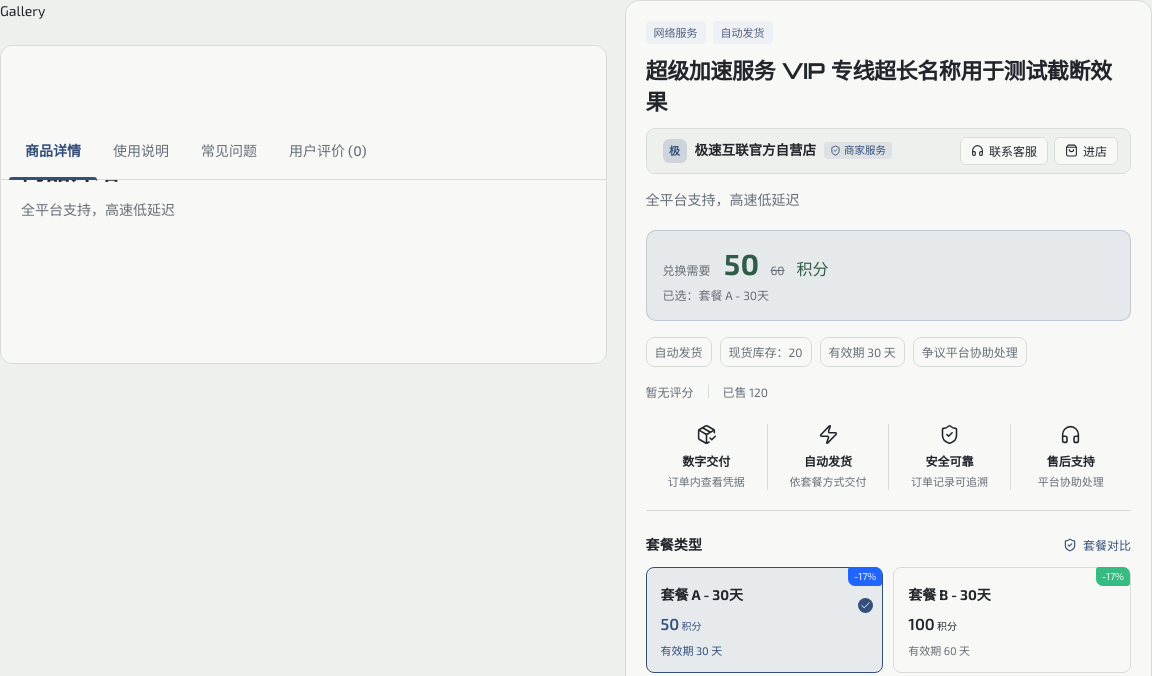
Test: ProductDetail - Merchant Byline and FAQ Pipeline Hub › renders fulfillment pipeline card, fallback FAQs and contact card when product has no custom FAQs
This screenshot has width=1152, height=676.
Switch to FAQ tab
What coordinates should you click on to do the following:
click the tab "常见问题"
I would click on:
 (229, 151)
Its box is [185, 123, 273, 179].
(page scrolled)
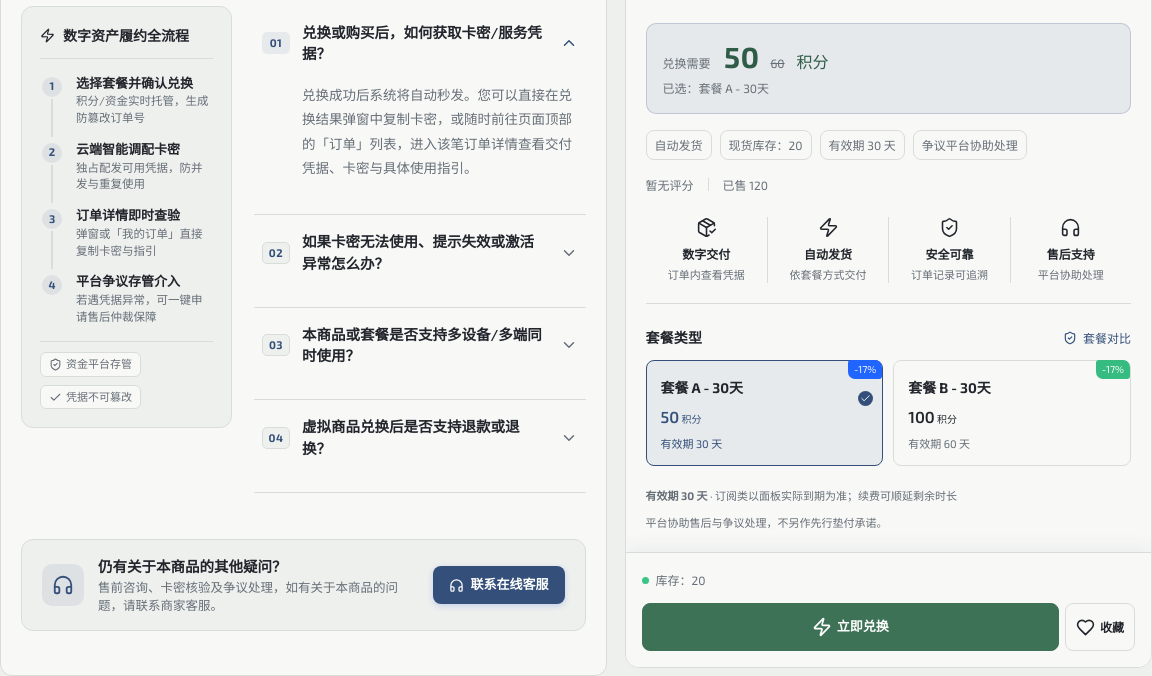
Result: the text "数字资产履约全流程" is shown at [63, 24, 189, 46]
Result: the text "兑换或购买后，如何获取卡密/服务凭据？" is shown at [302, 22, 548, 65]
Result: the text "如果卡密无法使用、提示失效或激活异常怎么办？" is shown at [302, 231, 548, 275]
